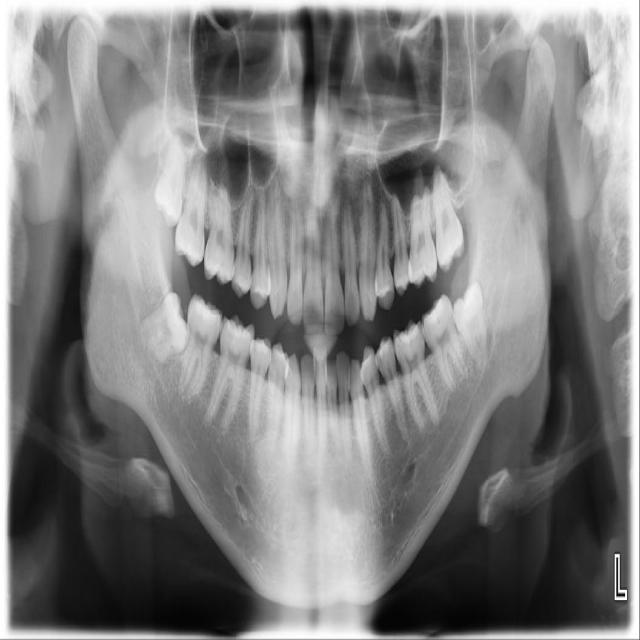Filling: (225, 317, 250, 345), (423, 297, 447, 326), (192, 299, 221, 322), (393, 323, 422, 342), (253, 337, 272, 358), (377, 341, 392, 362)
impacted tooth: (151, 127, 186, 224), (454, 283, 490, 373)
